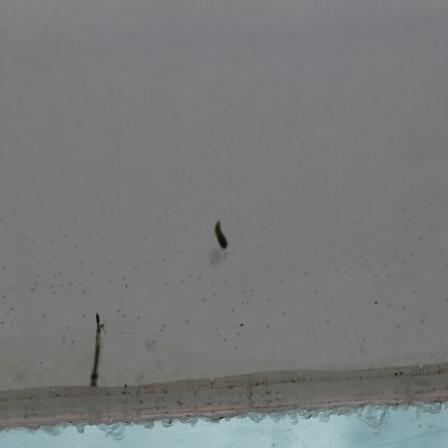Jentik-Nyamuk: (85, 306, 111, 391), (208, 217, 233, 255)
